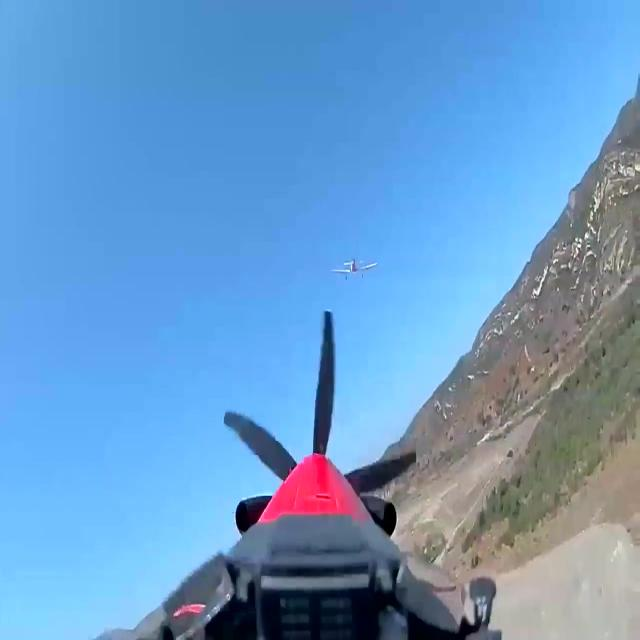iha: (330, 257, 377, 281)
